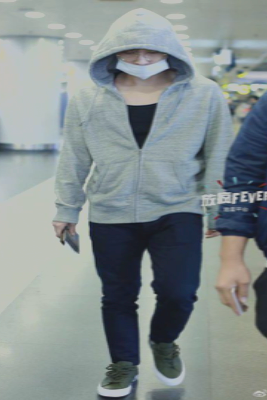mask_weared_incorrect: (114, 47, 169, 80)
